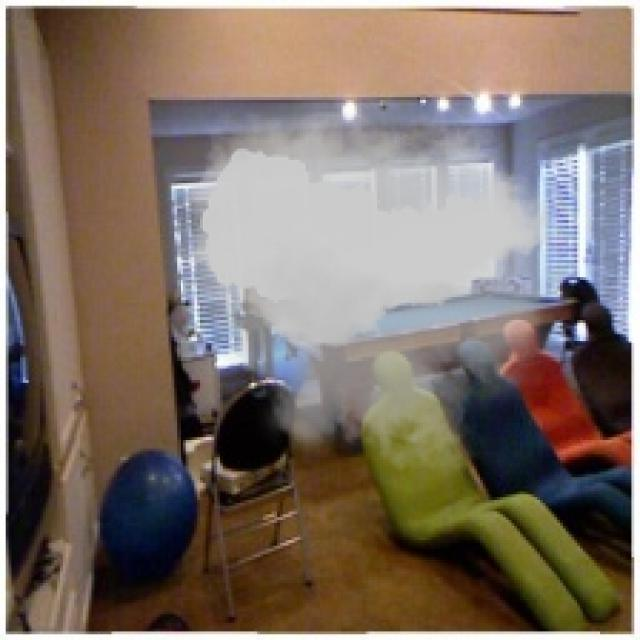Smoke: (175, 80, 574, 494)
